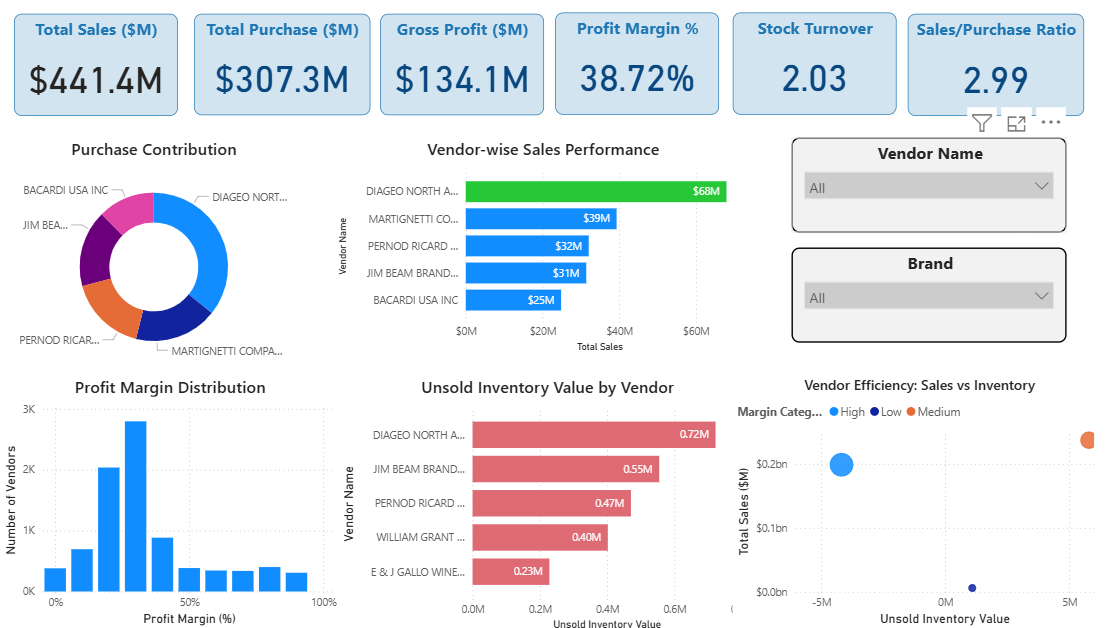

Layout of this report page (visuals, bound fields, positions):
{"tool":"powerbi","page":{"name":"Page 1","canvas":[1280,720],"ordinal":0},"visuals":[{"type":"card","title":"Total Sales ($M)","fields":{"Values":["Sum(vendor_sales_summary.TotalSalesDollars)"]},"box":[17.1,15.7,187.1,117.1],"z":0},{"type":"card","title":"Total Purchase ($M)","fields":{"Values":["Sum(vendor_sales_summary.TotalPuchaseDollars)"]},"box":[222.9,15.7,201.4,115.7],"z":1000},{"type":"card","title":"Gross Profit ($M)","fields":{"Values":["Sum(vendor_sales_summary.GrossProfit)"]},"box":[435.7,15.7,187.1,115.7],"z":2000},{"type":"card","title":"Profit Margin %","fields":{"Values":["Avg(vendor_sales_summary.Profit Margin)"]},"box":[635.7,14.3,187.1,117.1],"z":3000},{"type":"donutChart","title":"Purchase Contribution","fields":{"Y":["Sum(PurchaseContribution.PercentageContribution%)"],"Category":["PurchaseContribution.VendorName"]},"box":[17.1,157.1,320,271.4],"z":4000},{"type":"barChart","title":"Vendor-wise Sales Performance","fields":{"Category":["vendor_sales_summary.VendorName"],"Y":["Sum(vendor_sales_summary.TotalSalesDollars)"]},"box":[382.9,157.1,478.6,250],"z":5000},{"type":"card","title":"Stock Turnover","fields":{"Values":["Avg(vendor_sales_summary.StockTurnover)"]},"box":[838.6,14.3,187.1,117.1],"z":6000},{"type":"card","title":"Sales/Purchase Ratio","fields":{"Values":["Avg(vendor_sales_summary.SalesPuchaseRatio)"]},"box":[1038.6,15.7,201.4,117.1],"z":7000},{"type":"barChart","title":"Unsold Inventory Value by Vendor","fields":{"Category":["vendor_sales_summary.VendorName"],"Y":["Sum(vendor_sales_summary.UnsoldInventoryValue)"]},"box":[391.4,428.6,471.4,291.4],"z":8000},{"type":"clusteredColumnChart","title":"Profit Margin Distribution","fields":{"Y":["CountNonNull(vendor_sales_summary.VendorName)"],"Category":["vendor_sales_summary.Profit Margin (bins)"]},"box":[0,428.6,391.4,291.4],"z":9000},{"type":"scatterChart","title":"Vendor Efficiency: Sales vs Inventory","fields":{"X":["Sum(vendor_sales_summary.UnsoldInventoryValue)"],"Y":["Sum(vendor_sales_summary.TotalSalesDollars)"],"Size":["Sum(vendor_sales_summary.Volume)"],"Series":["vendor_sales_summary.Margin Category"]},"box":[838.6,428.6,427.1,291.4],"z":10000},{"type":"slicer","title":"Vendor Name","fields":{"Values":["vendor_sales_summary.VendorName"]},"box":[905.7,157.1,314.3,108.6],"z":11000},{"type":"slicer","title":"Brand","fields":{"Values":["vendor_sales_summary.Brand"]},"box":[905.7,282.9,314.3,108.6],"z":12000}]}

Visuals, with their boxes in screenshot pixels (x1, y1, x2, y2), scaled from the page's 1280x720 canvas onto the 1117x628 screenshot:
"Total Sales ($M)" card: pyautogui.locateOnScreen(15, 14, 178, 116)
"Total Purchase ($M)" card: pyautogui.locateOnScreen(195, 14, 370, 115)
"Gross Profit ($M)" card: pyautogui.locateOnScreen(380, 14, 543, 115)
"Profit Margin %" card: pyautogui.locateOnScreen(555, 12, 718, 115)
"Purchase Contribution" donutChart: pyautogui.locateOnScreen(15, 137, 294, 374)
"Vendor-wise Sales Performance" barChart: pyautogui.locateOnScreen(334, 137, 752, 355)
"Stock Turnover" card: pyautogui.locateOnScreen(732, 12, 895, 115)
"Sales/Purchase Ratio" card: pyautogui.locateOnScreen(906, 14, 1082, 116)
"Unsold Inventory Value by Vendor" barChart: pyautogui.locateOnScreen(342, 374, 753, 627)
"Profit Margin Distribution" clusteredColumnChart: pyautogui.locateOnScreen(0, 374, 342, 627)
"Vendor Efficiency: Sales vs Inventory" scatterChart: pyautogui.locateOnScreen(732, 374, 1105, 627)
"Vendor Name" slicer: pyautogui.locateOnScreen(790, 137, 1065, 232)
"Brand" slicer: pyautogui.locateOnScreen(790, 247, 1065, 341)
